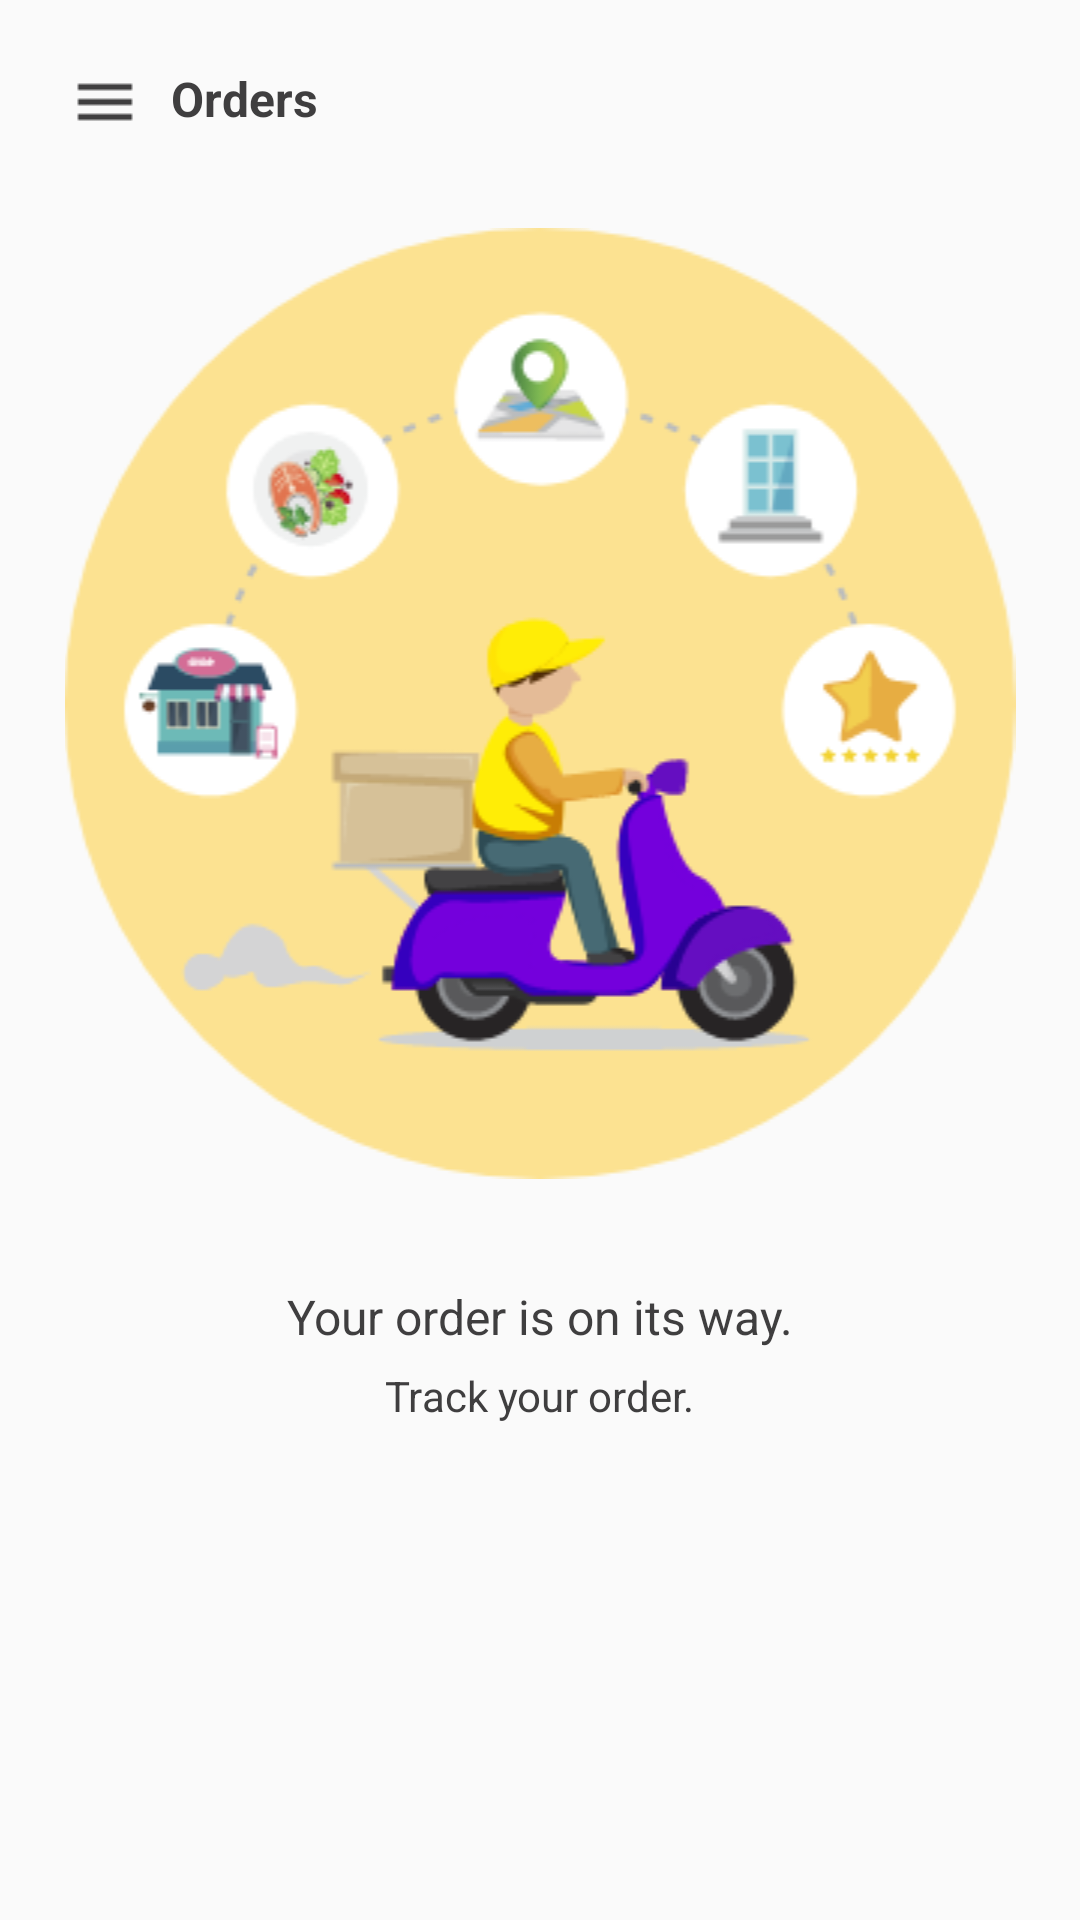

Named icons in this screenshot (1080w x 1920h) and their bounding boxes, box=[x1, y1, x2, y2]:
blackburgericon: box=[77, 83, 133, 121]
